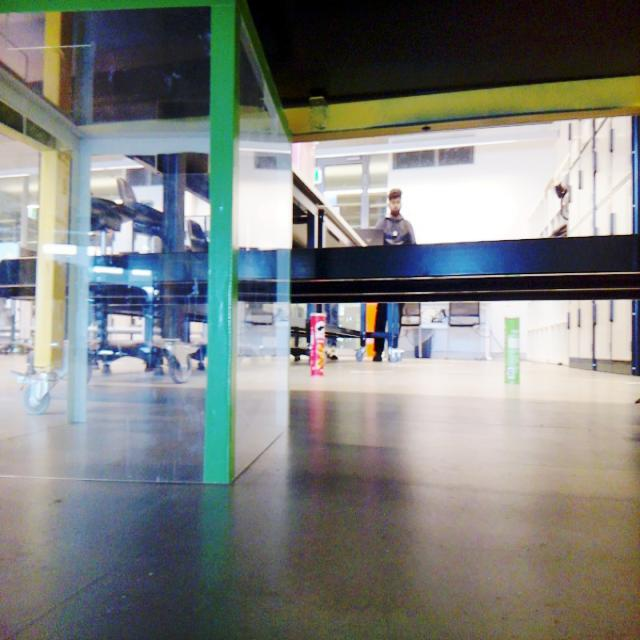greenpringles: (500, 310, 524, 393)
redpringles: (303, 307, 330, 385)
